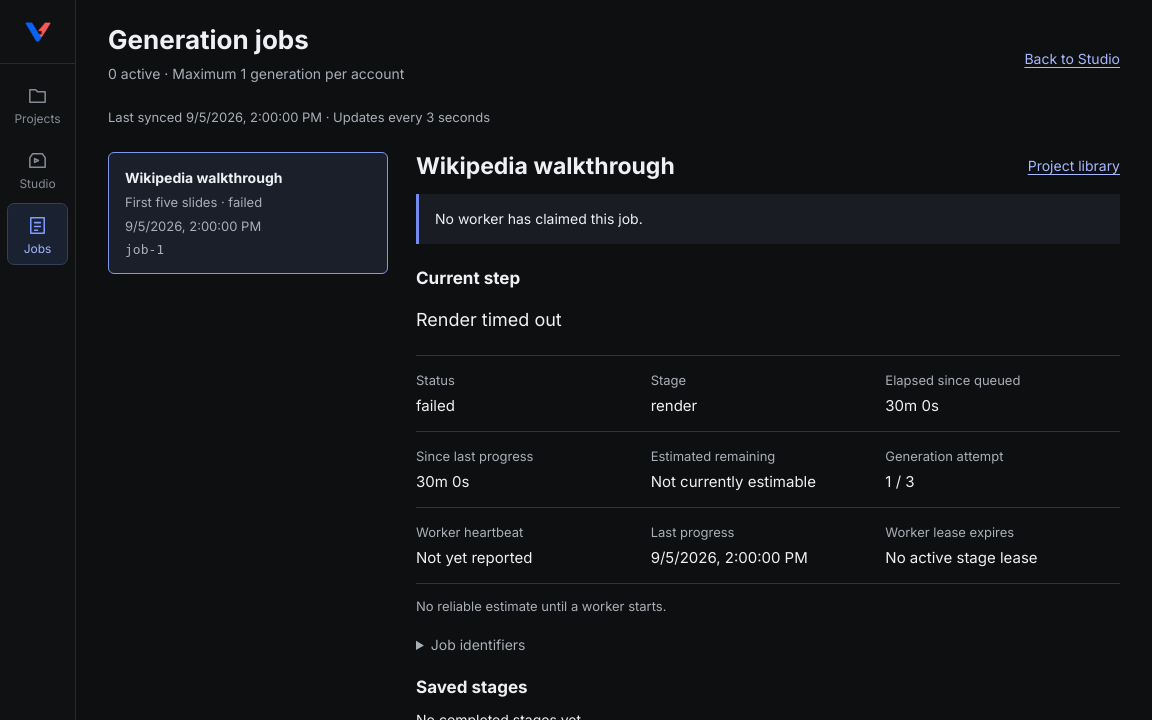
shows timestamped worker logs and explicit retry approval for a failed preview
Click the heading "Job identifiers".
click(478, 645)  # box [431, 636, 526, 653]
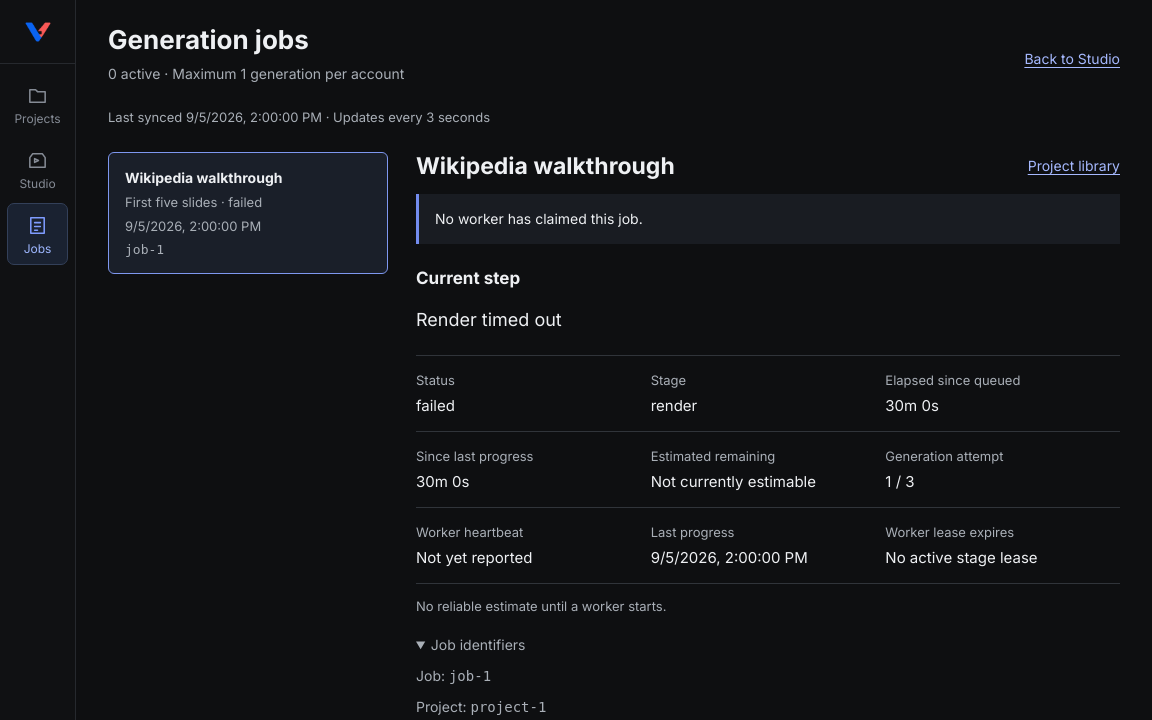
Check: the text "project-1" is shown, box [470, 699, 546, 715]
